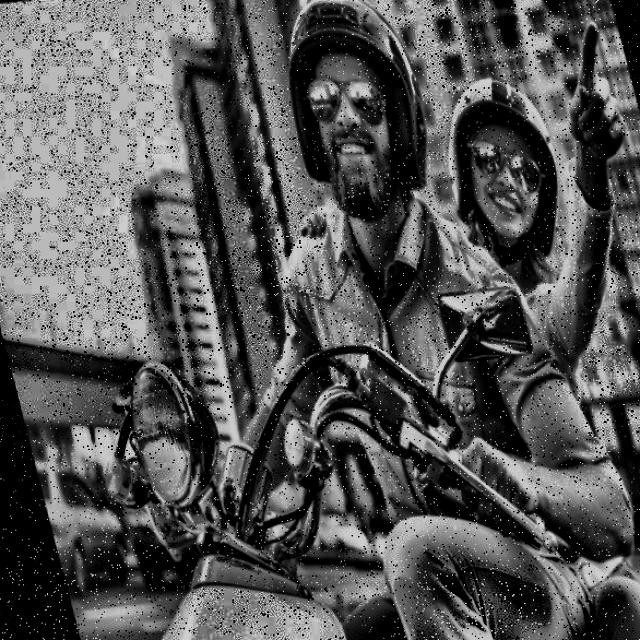Helmet: (255, 0, 454, 246), (418, 64, 584, 284)
